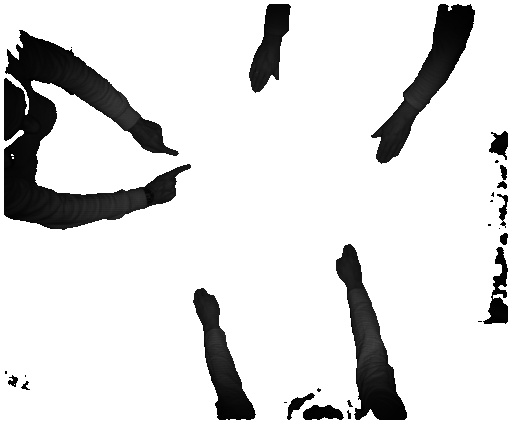hand: (368, 114, 413, 167), (149, 164, 191, 215), (137, 117, 181, 161), (248, 46, 285, 95), (336, 240, 367, 284), (192, 288, 223, 325)
